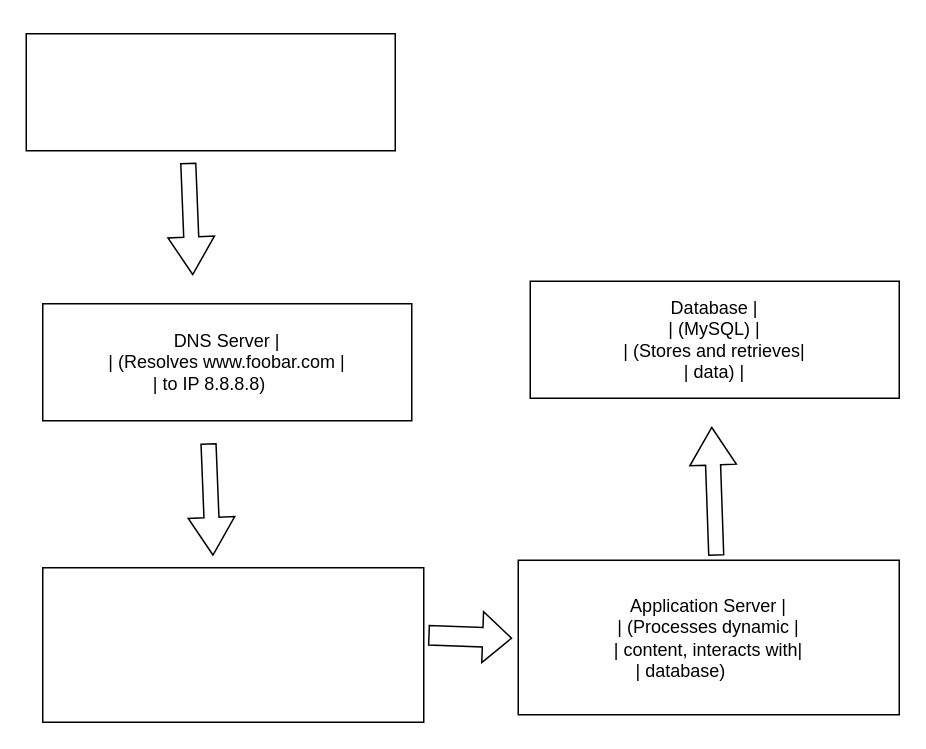
The diagram is 926 pixels wide and 749 high, and some of its shapes have lost their labels. The centre of each missing label's shape, as x and y in pixels:
User (Browser requests www.foobar.com): (210,91)
Web Server | | (Nginx) | | (IP: 8.8 .8 .8 ): (232,644)
